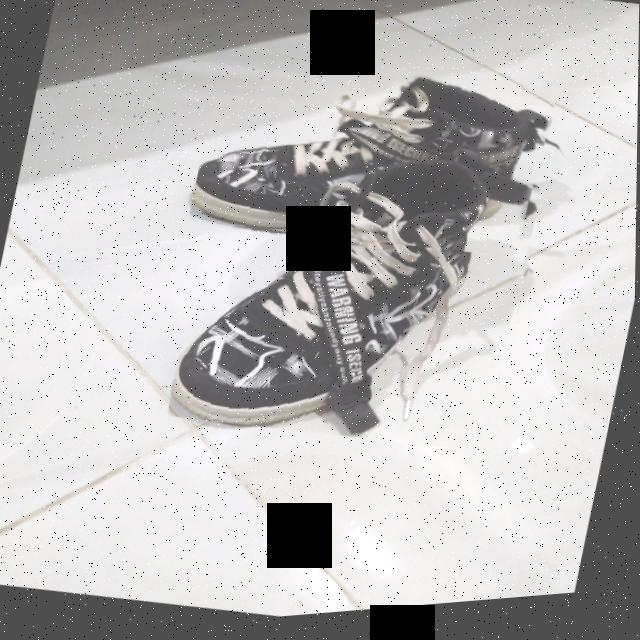shoe: (167, 118, 547, 482), (188, 34, 560, 289)
